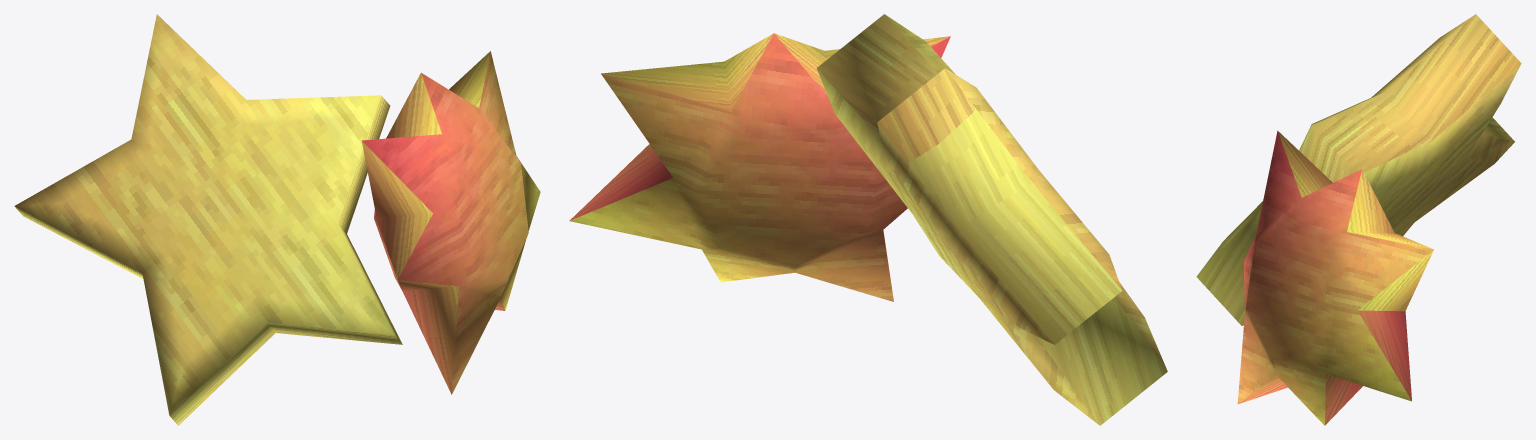
Rendered from stars.obj.
The picture shows the model from 3 angles, left to right: view 1: azimuth 30°, elevation 25°; view 2: azimuth 150°, elevation 25°; view 3: azimuth 270°, elevation 25°; orthographic projection. The views are drawn at different scales.
Parts seen in each view (by area): view 1: a8228b53_dds, _2fa31885_dds; view 2: a8228b53_dds, _2fa31885_dds; view 3: _2fa31885_dds, a8228b53_dds.
Boxes of the visible parts, x1,y1,x2,y2 form: a8228b53_dds: (14,14,402,425); _2fa31885_dds: (362,51,540,394); a8228b53_dds: (816,14,1167,425); _2fa31885_dds: (569,33,950,301); _2fa31885_dds: (1237,130,1433,425); a8228b53_dds: (1196,14,1521,325).
Bounding box in the file's own units: 1.49 × 0.9855 × 0.8944.
